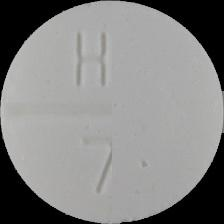60429-381: (0, 0, 224, 224)
